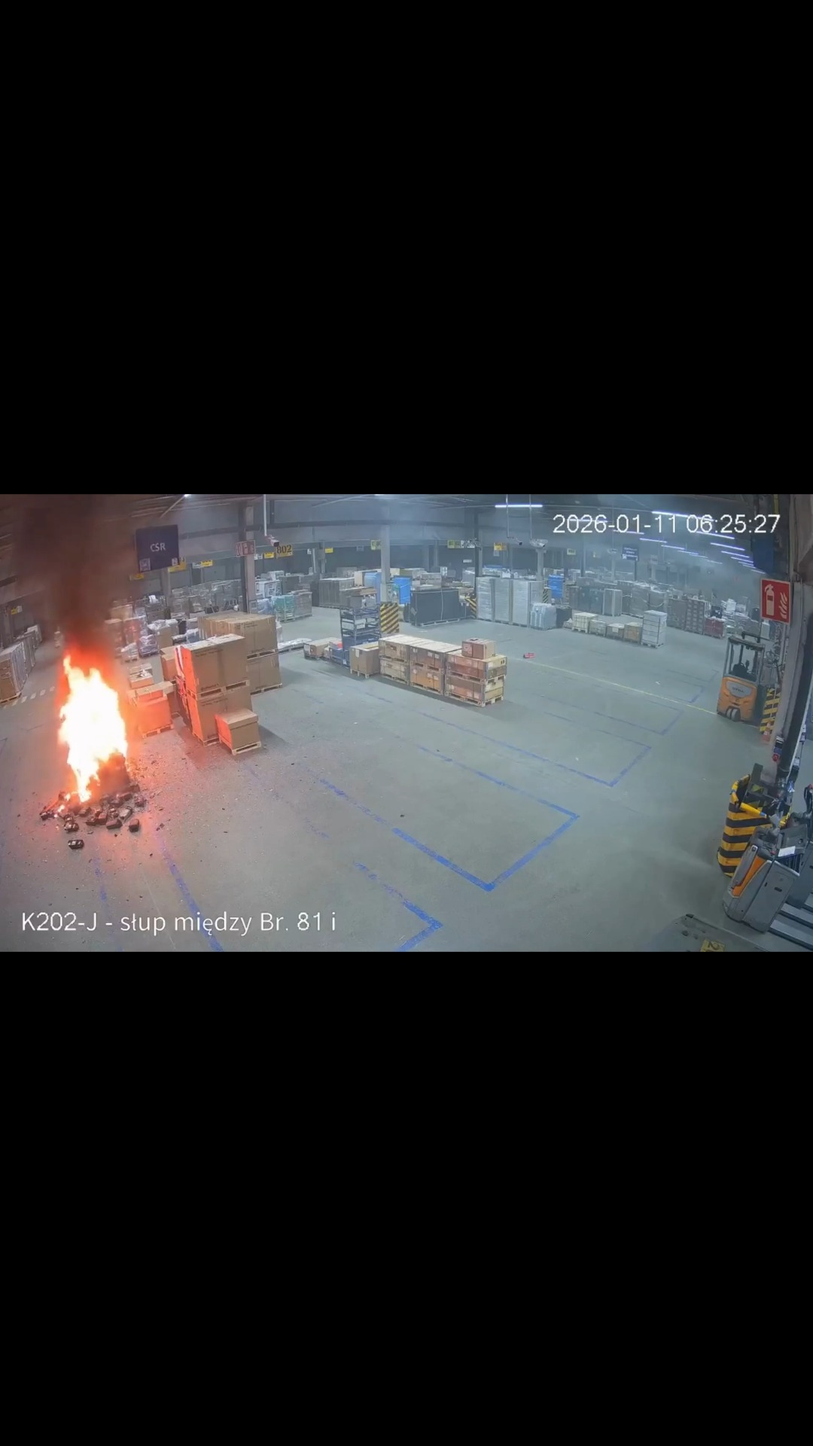fire: (52, 628, 137, 808)
smoke: (1, 496, 147, 664)
